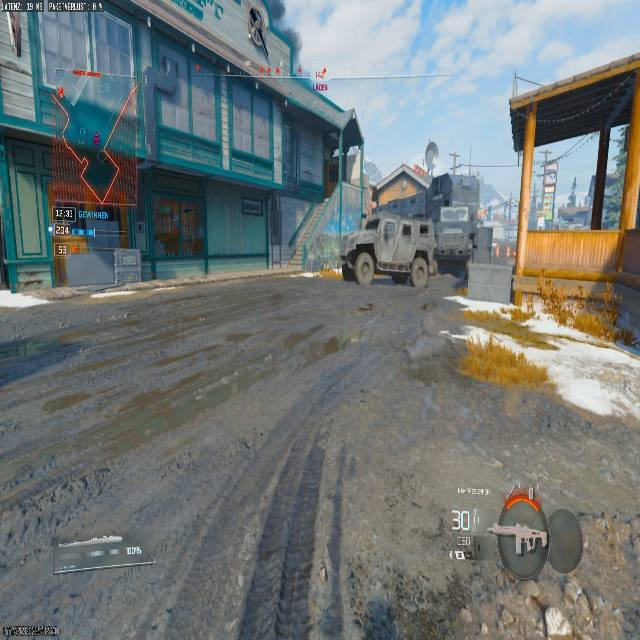player: (410, 248, 432, 286)
